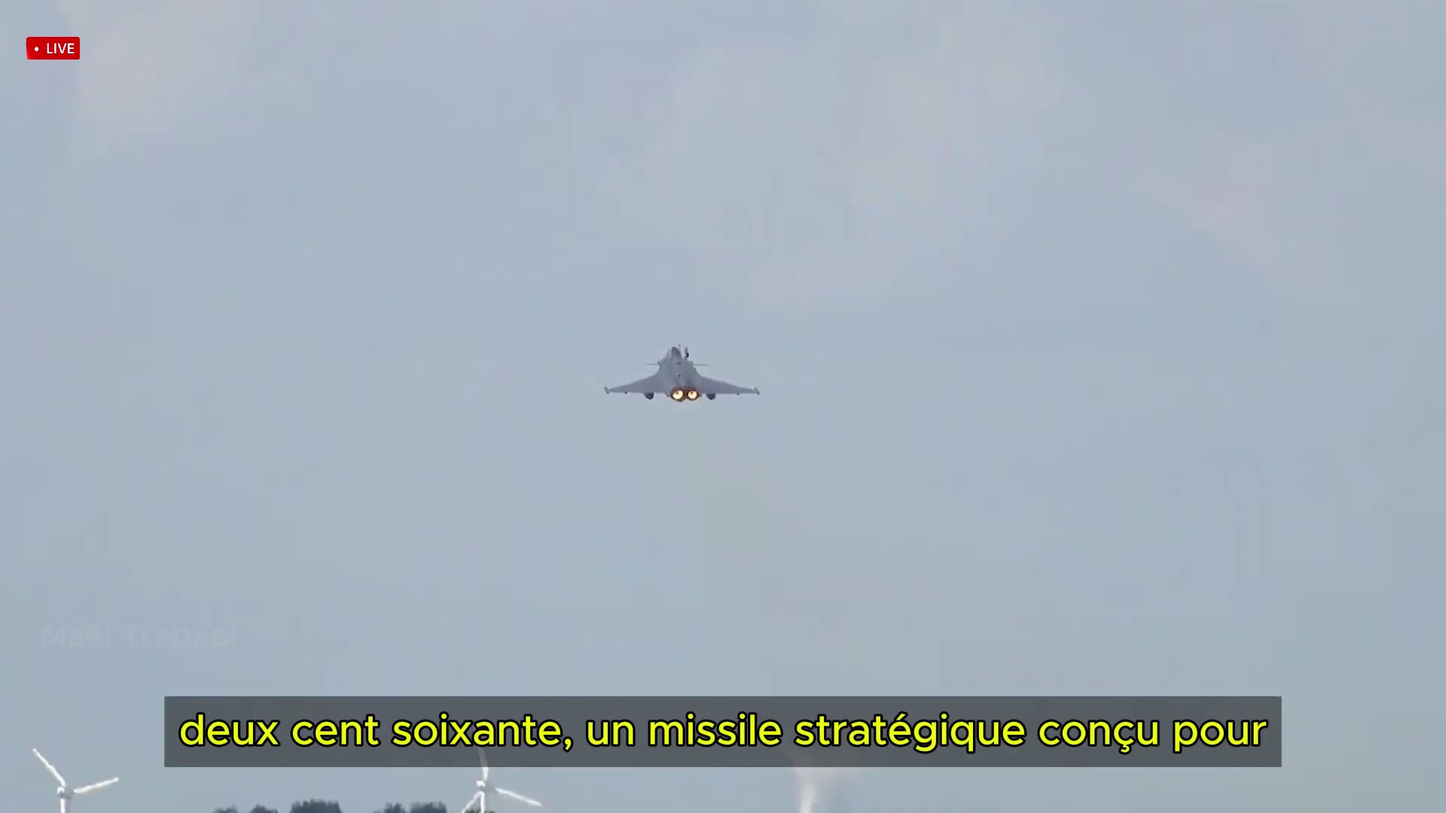Rafale: (603, 345, 761, 401), (24, 744, 120, 813)
